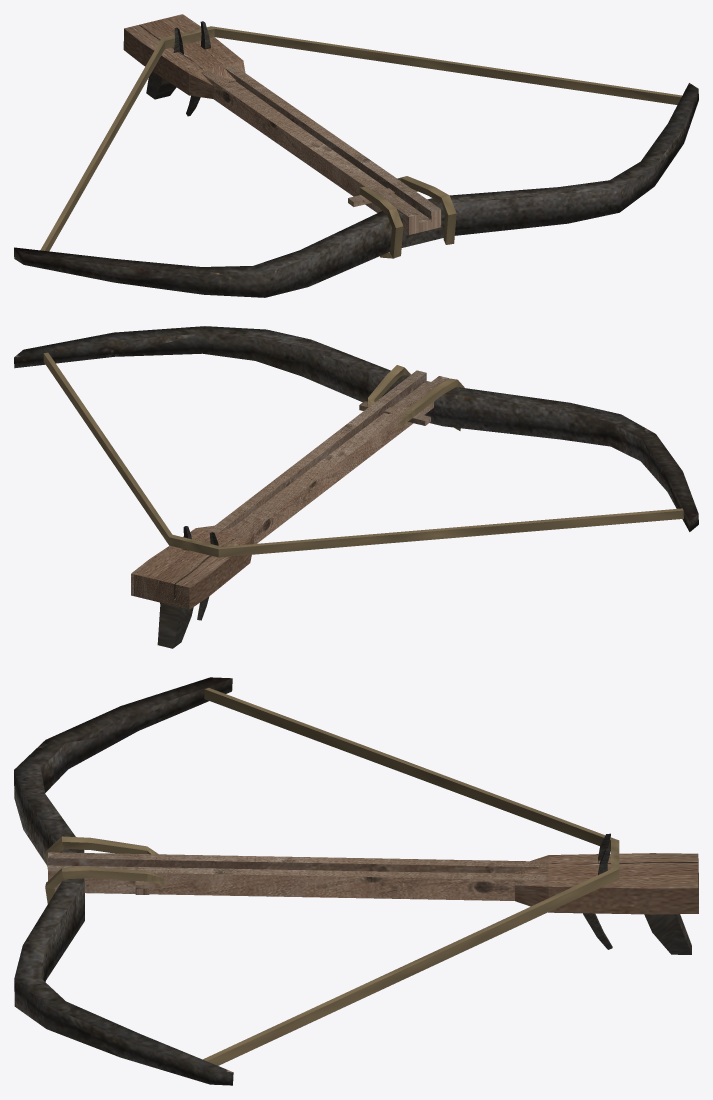
Rendered from crossbow.glb.
The picture shows the model from 3 angles, top to bottom: view 1: azimuth 30°, elevation 25°; view 2: azimuth 150°, elevation 25°; view 3: azimuth 270°, elevation 25°; orthographic projection. The views are drawn at different scales.
Parts seen in each view (by area): view 1: WeaponR; view 2: WeaponR; view 3: WeaponR.
Part boxes in pixels (box(x1,y1,x2,y2)): WeaponR: box(14, 14, 698, 297); WeaponR: box(14, 326, 698, 648); WeaponR: box(14, 677, 698, 1085).
Bounding box in the file's own units: 0.8594 × 0.1111 × 0.6319.
Materials: 1 (1 with a texture image).
